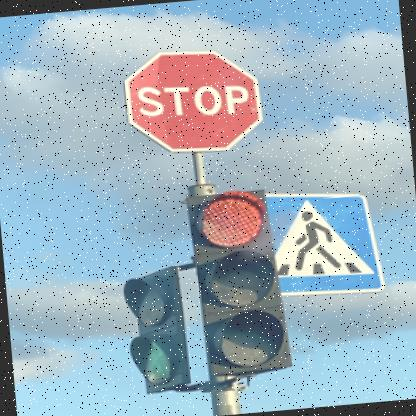crosswalk: (262, 182, 382, 300)
stop: (119, 43, 262, 157)
trafficlight: (181, 184, 290, 377), (119, 263, 190, 394)
